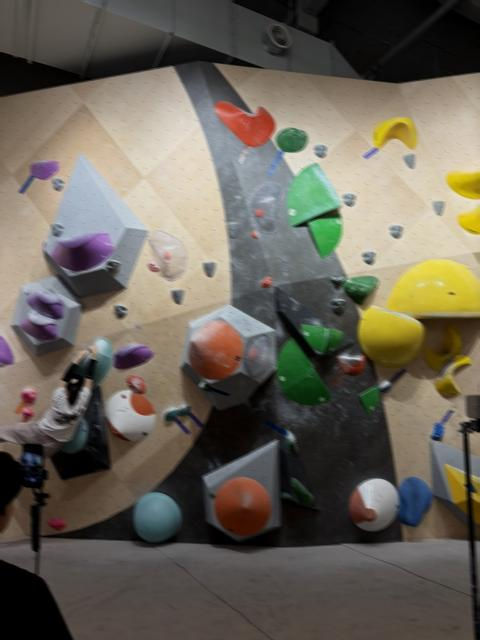downhold: (331, 298, 344, 314), (227, 221, 239, 238), (105, 259, 120, 272), (403, 152, 415, 168), (51, 222, 64, 236), (203, 262, 216, 276), (343, 192, 356, 206), (172, 289, 184, 304), (433, 200, 445, 215), (362, 251, 375, 264), (390, 224, 402, 238), (114, 304, 127, 316), (314, 144, 326, 157), (52, 177, 64, 189)
jug: (398, 476, 432, 526), (276, 127, 308, 151), (335, 354, 364, 374), (30, 160, 59, 179), (431, 422, 444, 440), (21, 388, 36, 402), (330, 274, 346, 286), (164, 408, 178, 420), (379, 379, 391, 392), (178, 404, 190, 415), (199, 380, 211, 390)
ledge: (358, 304, 426, 366), (214, 101, 275, 146), (51, 232, 114, 271), (373, 117, 416, 148), (301, 324, 344, 352), (27, 287, 63, 318), (20, 311, 57, 339), (113, 344, 153, 368), (359, 384, 379, 413), (323, 328, 343, 352), (470, 456, 480, 482)
sidepull: (276, 338, 330, 404), (287, 162, 342, 226), (148, 230, 187, 280), (248, 181, 284, 232), (343, 275, 379, 303)
sloper: (214, 476, 271, 534), (190, 319, 242, 379), (106, 388, 156, 441), (349, 478, 398, 530), (134, 491, 181, 542)
tape: (268, 150, 284, 174), (265, 420, 288, 435), (436, 409, 453, 425), (19, 174, 34, 192), (331, 370, 345, 388), (174, 418, 190, 433), (189, 412, 203, 428), (238, 145, 250, 163), (391, 368, 406, 382), (210, 385, 229, 395), (363, 146, 378, 158), (14, 401, 25, 413)
undercling: (387, 259, 480, 318)
volume: (43, 154, 149, 297), (181, 304, 275, 408), (203, 439, 280, 541), (49, 386, 110, 479), (11, 276, 83, 354), (274, 286, 354, 355), (279, 431, 319, 509), (430, 440, 466, 521)
